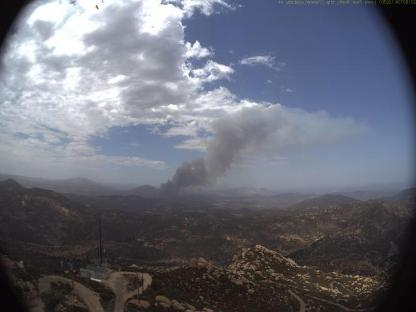smoke: (152, 102, 370, 200)
